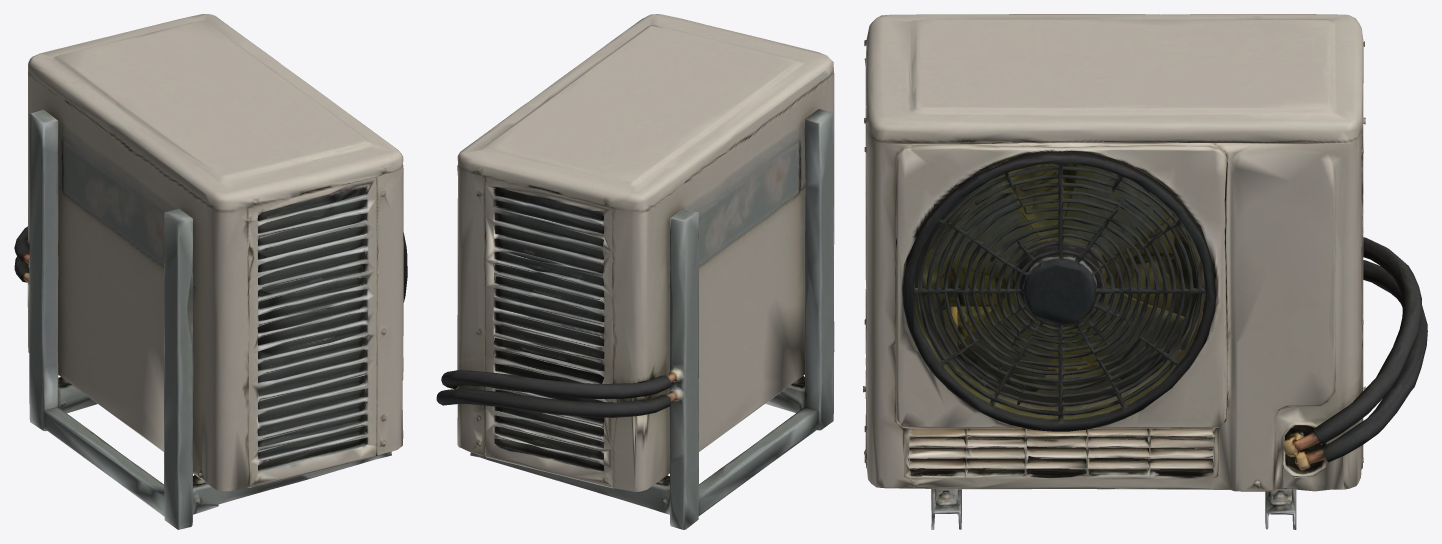
Rendered from acunit.glb.
The picture shows the model from 3 angles, left to right: view 1: azimuth 30°, elevation 25°; view 2: azimuth 150°, elevation 25°; view 3: azimuth 270°, elevation 25°; orthographic projection. The views are drawn at different scales.
Parts seen in each view (by area): view 1: tripo_node_7f23abc9-f619-42bd-85ed-d74b16b5947b; view 2: tripo_node_7f23abc9-f619-42bd-85ed-d74b16b5947b; view 3: tripo_node_7f23abc9-f619-42bd-85ed-d74b16b5947b.
Boxes of the visible parts, x1=… form: tripo_node_7f23abc9-f619-42bd-85ed-d74b16b5947b: x1=14, y1=14, x2=407, y2=529; tripo_node_7f23abc9-f619-42bd-85ed-d74b16b5947b: x1=436, y1=14, x2=834, y2=529; tripo_node_7f23abc9-f619-42bd-85ed-d74b16b5947b: x1=863, y1=14, x2=1427, y2=529.
Size of the model in its own units: 0.4134 by 0.5998 by 0.7115.
Materials: 1 (1 with a texture image).
